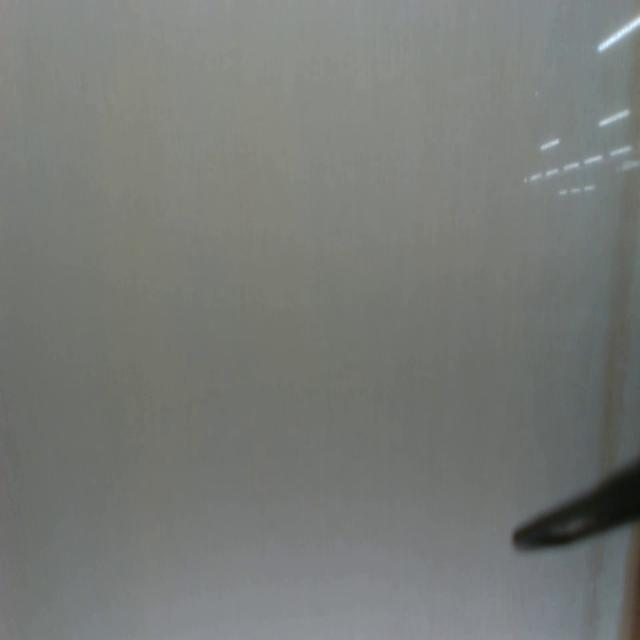color bleeding: (612, 532, 640, 636)
